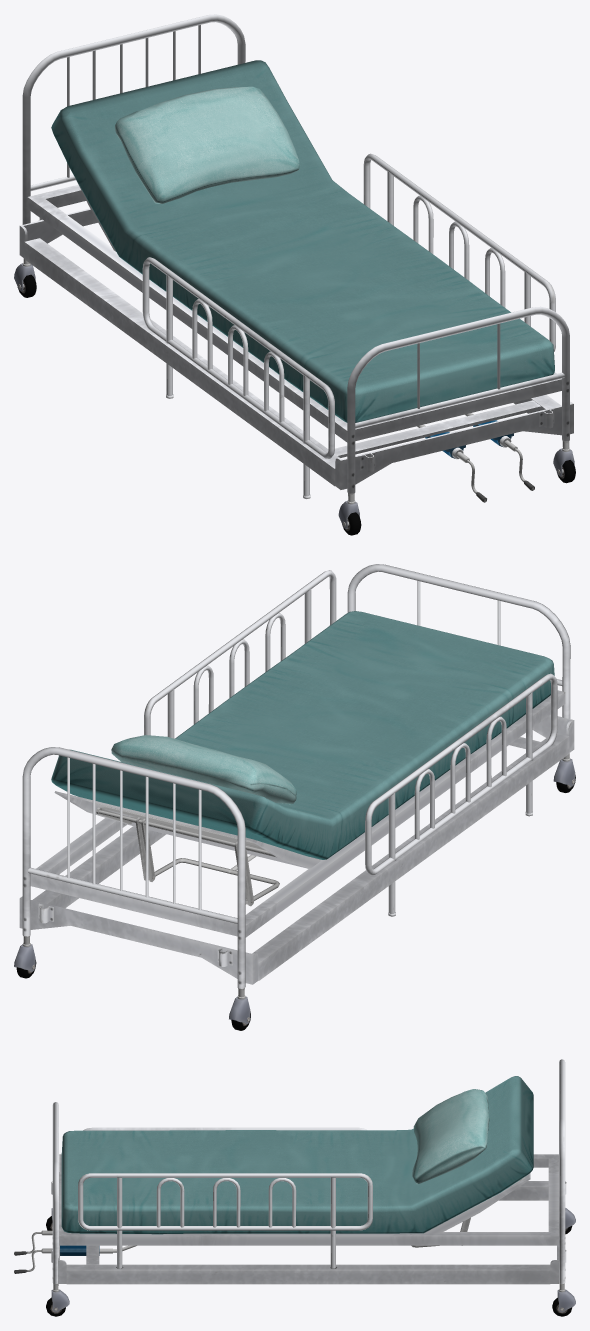
Rendered from HospitalBed2.FBX.
3 views of the same model, one above another, from view 1: azimuth 30°, elevation 25°; view 2: azimuth 150°, elevation 25°; view 3: azimuth 270°, elevation 25° (orthographic). The views are drawn at different scales.
Visible parts, largest first — view 1: HospitalBedMattress002, HospitalBedPlatform005, HospitalBedPillow002, HospitalBedRailing005, HospitalBedRailing006, HospitalBedWheel010, HospitalBedWheel009; view 2: HospitalBedMattress002, HospitalBedPlatform005, HospitalBedRailing005, HospitalBedPillow002, HospitalBedRailing006, HospitalBedWheel011, HospitalBedWheel012, HospitalBedWheel009; view 3: HospitalBedMattress002, HospitalBedPlatform005, HospitalBedRailing006, HospitalBedPillow002, HospitalBedRailing005, HospitalBedWheel011, HospitalBedWheel010.
Boxes of the visible parts, x1,y1,x2,y2 form: HospitalBedMattress002: [51, 60, 554, 422]; HospitalBedPlatform005: [19, 14, 573, 502]; HospitalBedPillow002: [114, 86, 299, 203]; HospitalBedRailing005: [142, 257, 334, 498]; HospitalBedRailing006: [363, 153, 555, 351]; HospitalBedWheel010: [553, 440, 575, 483]; HospitalBedWheel009: [338, 493, 361, 535]; HospitalBedMattress002: [51, 611, 554, 859]; HospitalBedPlatform005: [19, 564, 574, 988]; HospitalBedRailing005: [365, 673, 557, 916]; HospitalBedPillow002: [111, 735, 296, 804]; HospitalBedRailing006: [144, 570, 336, 738]; HospitalBedWheel011: [14, 935, 36, 978]; HospitalBedWheel012: [229, 988, 250, 1030]; HospitalBedWheel009: [553, 753, 575, 792]; HospitalBedMattress002: [61, 1076, 533, 1234]; HospitalBedPlatform005: [14, 1059, 566, 1284]; HospitalBedRailing006: [78, 1173, 372, 1268]; HospitalBedPillow002: [412, 1089, 489, 1184]; HospitalBedRailing005: [83, 1127, 366, 1130]; HospitalBedWheel011: [552, 1283, 575, 1316]; HospitalBedWheel010: [46, 1283, 69, 1316].
Bounding box in the file's own units: 82.13 × 79.22 × 218.
